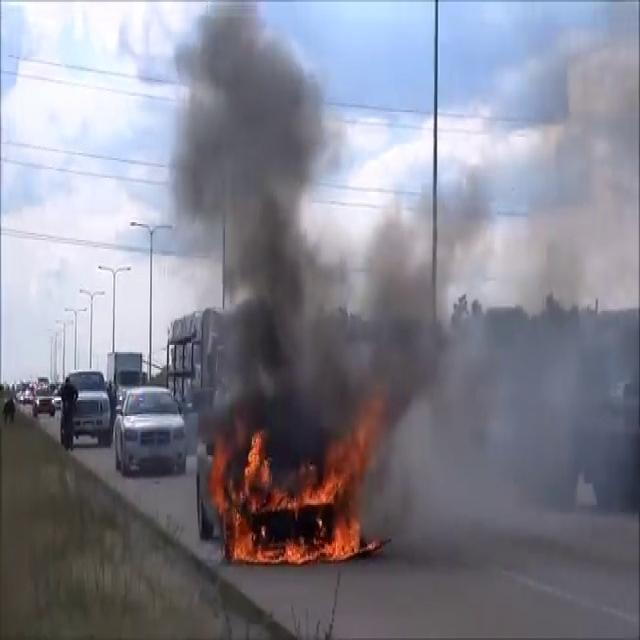Fire: (210, 423, 376, 569)
Smoke: (336, 136, 639, 556), (172, 1, 380, 460)
